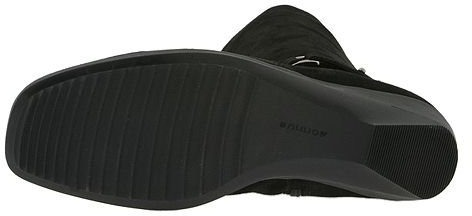circle: (273, 114, 334, 155)
line: (119, 73, 206, 159), (30, 94, 115, 170), (383, 129, 430, 179), (212, 73, 258, 118)
text: (273, 114, 334, 155), (280, 114, 301, 138), (305, 121, 323, 141)
